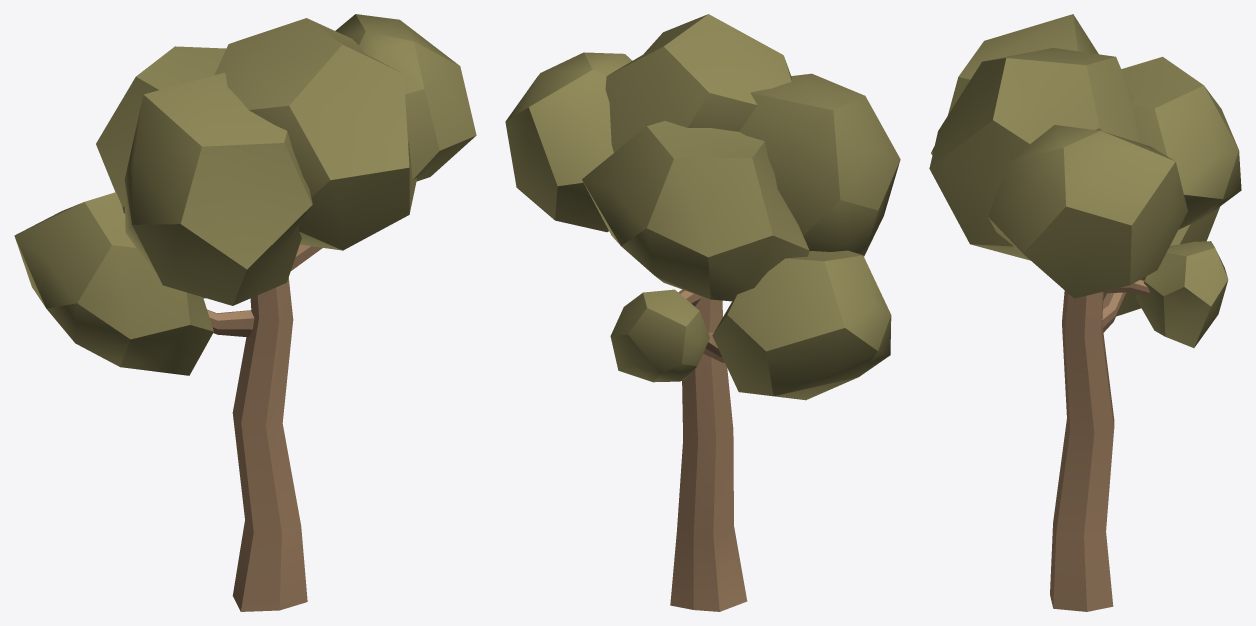
File: AutumnTreeGreen_Mesh.fbx
The picture shows the model from 3 angles, left to right: view 1: azimuth 30°, elevation 25°; view 2: azimuth 150°, elevation 25°; view 3: azimuth 270°, elevation 25°; orthographic projection. The views are drawn at different scales.
Parts seen in each view (by area): view 1: AutumnTreeGreen_Mesh; view 2: AutumnTreeGreen_Mesh; view 3: AutumnTreeGreen_Mesh.
Part boxes in pixels (x1,y1,x2,y2): AutumnTreeGreen_Mesh: (14,14,476,611); AutumnTreeGreen_Mesh: (505,14,900,611); AutumnTreeGreen_Mesh: (929,14,1241,611).
Bounding box in the file's own units: 400 × 569 × 289.
